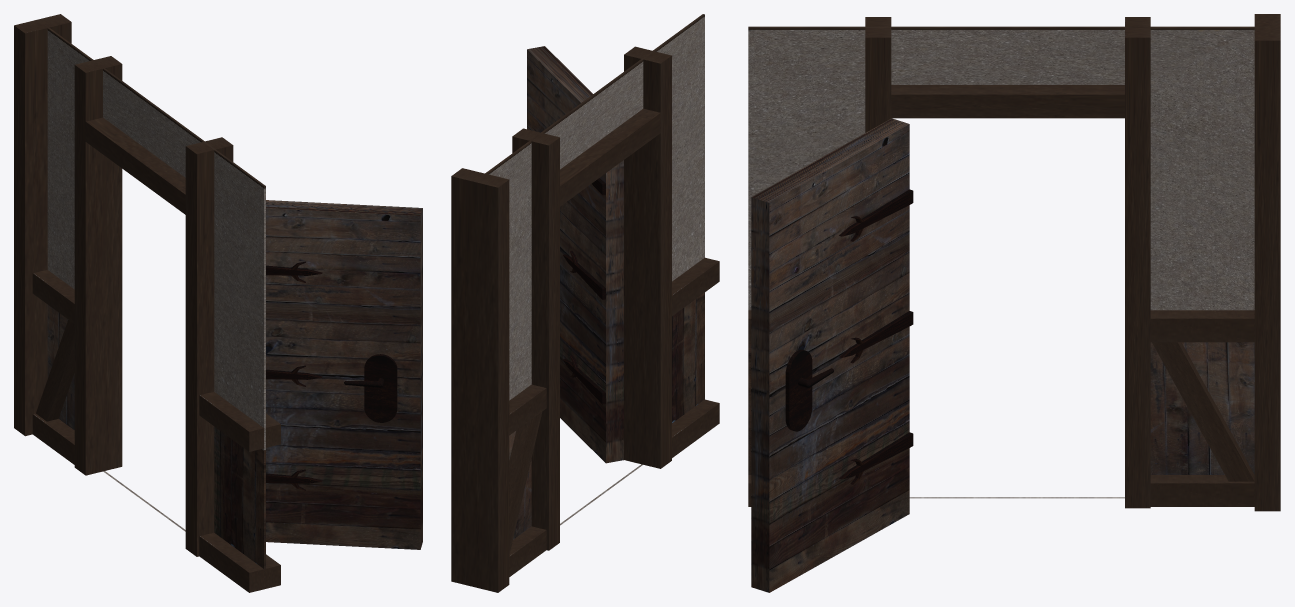
The model's file is OutdoorArchitecture_BasicWall01_Door01_OpenDoor_RightEdge_BShortt.fbx.
3 renders of one model, left to right at view 1: azimuth 30°, elevation 25°; view 2: azimuth 150°, elevation 25°; view 3: azimuth 270°, elevation 25°, orthographic. The views are drawn at different scales.
Parts seen in each view (by area): view 1: OutdoorArchitecture_BasicWall01_Door01_OpenDoor_RightEdge_BS; view 2: OutdoorArchitecture_BasicWall01_Door01_OpenDoor_RightEdge_BS; view 3: OutdoorArchitecture_BasicWall01_Door01_OpenDoor_RightEdge_BS.
Part boxes in pixels (x1,y1,x2,y2): OutdoorArchitecture_BasicWall01_Door01_OpenDoor_RightEdge_BS: (14, 14, 422, 592); OutdoorArchitecture_BasicWall01_Door01_OpenDoor_RightEdge_BS: (451, 14, 719, 592); OutdoorArchitecture_BasicWall01_Door01_OpenDoor_RightEdge_BS: (748, 14, 1280, 592).
Bounding box in the file's own units: 148 × 300 × 308.
